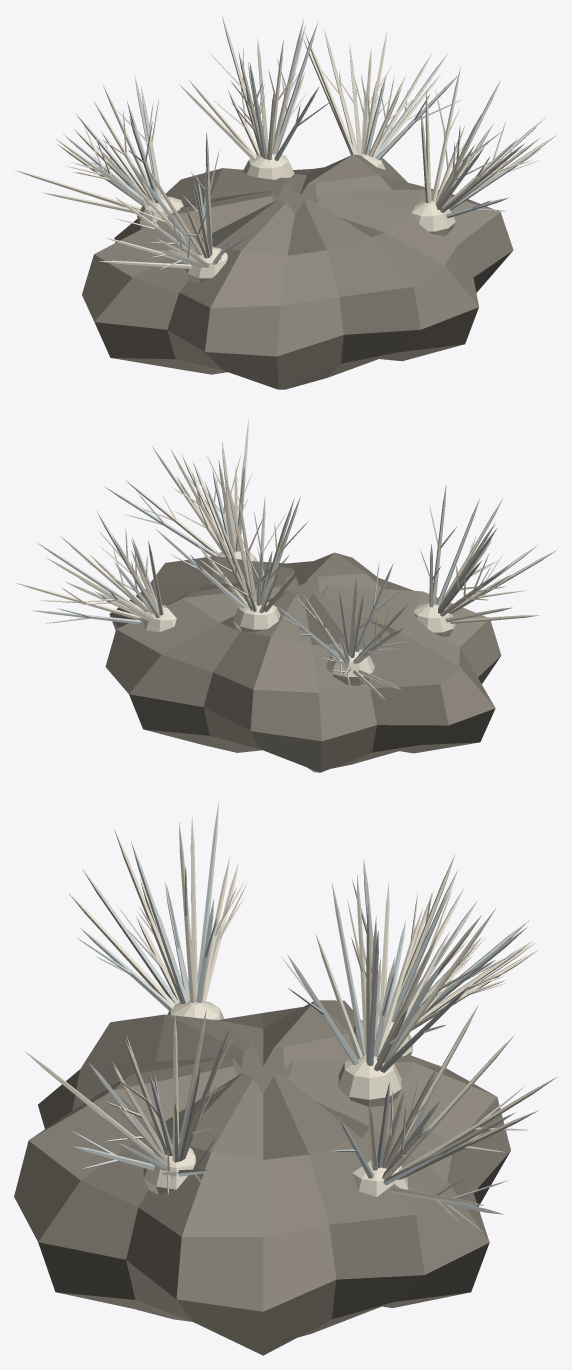
3 views of the same model, one above another, from view 1: azimuth 30°, elevation 25°; view 2: azimuth 150°, elevation 25°; view 3: azimuth 270°, elevation 25° (orthographic). The views are drawn at different scales.
Parts seen in each view (by area): view 1: small_irregular_limestone_host, five_radiating_bundles_straight_acicular_primary_needles.001, five_radiating_bundles_straight_acicular_primary_needles, five_small_nodular_growth_origins, finer_straight_secondary_acicular_sprigs.001, finer_straight_secondary_acicular_sprigs; view 2: small_irregular_limestone_host, five_radiating_bundles_straight_acicular_primary_needles.001, five_radiating_bundles_straight_acicular_primary_needles, five_small_nodular_growth_origins, finer_straight_secondary_acicular_sprigs.001, finer_straight_secondary_acicular_sprigs; view 3: small_irregular_limestone_host, five_radiating_bundles_straight_acicular_primary_needles.001, five_radiating_bundles_straight_acicular_primary_needles, five_small_nodular_growth_origins, finer_straight_secondary_acicular_sprigs.001, finer_straight_secondary_acicular_sprigs.
Part boxes in pixels (bbox=[...]): small_irregular_limestone_host: bbox=[82, 154, 513, 389]; five_radiating_bundles_straight_acicular_primary_needles.001: bbox=[15, 16, 557, 268]; five_radiating_bundles_straight_acicular_primary_needles: bbox=[63, 22, 545, 267]; five_small_nodular_growth_origins: bbox=[137, 152, 455, 282]; finer_straight_secondary_acicular_sprigs.001: bbox=[65, 47, 539, 269]; finer_straight_secondary_acicular_sprigs: bbox=[71, 58, 524, 260]; small_irregular_limestone_host: bbox=[105, 552, 501, 772]; five_radiating_bundles_straight_acicular_primary_needles.001: bbox=[14, 419, 539, 699]; five_radiating_bundles_straight_acicular_primary_needles: bbox=[31, 446, 556, 664]; five_small_nodular_growth_origins: bbox=[143, 550, 455, 685]; finer_straight_secondary_acicular_sprigs.001: bbox=[39, 454, 527, 686]; finer_straight_secondary_acicular_sprigs: bbox=[45, 476, 506, 653]; small_irregular_limestone_host: bbox=[14, 1000, 510, 1355]; five_radiating_bundles_straight_acicular_primary_needles.001: bbox=[25, 815, 556, 1205]; five_radiating_bundles_straight_acicular_primary_needles: bbox=[73, 801, 528, 1214]; five_small_nodular_growth_origins: bbox=[143, 1000, 412, 1196]; finer_straight_secondary_acicular_sprigs.001: bbox=[105, 865, 527, 1223]; finer_straight_secondary_acicular_sprigs: bbox=[71, 879, 520, 1232].
Size of the model in its own units: 0.1931 by 0.1215 by 0.1438.
